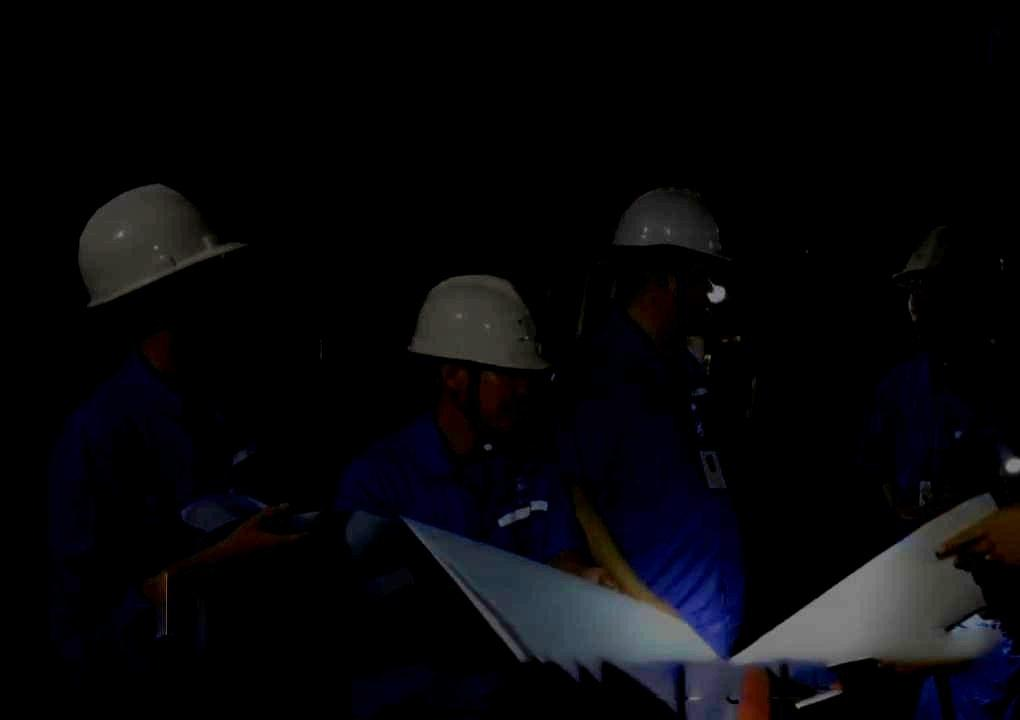helmet: (405, 273, 548, 445), (77, 183, 242, 311), (609, 185, 722, 330)
